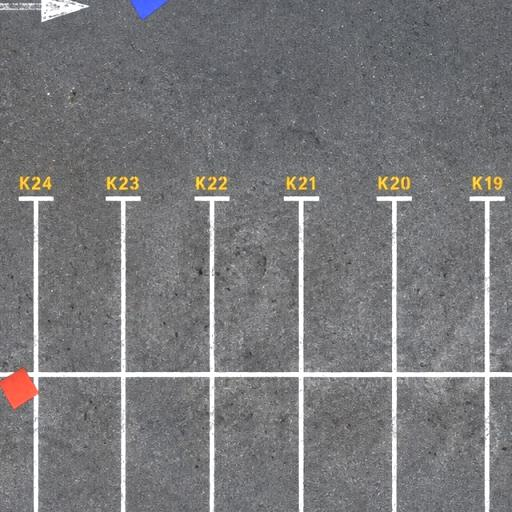RED_SQUARE: (0, 366, 40, 410)
